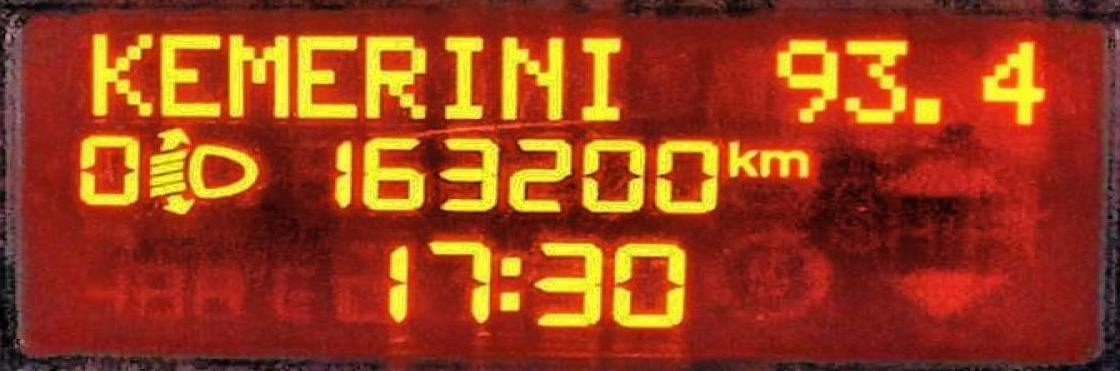-: (906, 93, 946, 129)
0: (608, 235, 691, 332), (575, 131, 646, 216), (71, 130, 145, 211), (650, 133, 721, 216)
1: (370, 236, 411, 325), (316, 130, 356, 211)
2: (501, 133, 570, 216)
3: (530, 234, 600, 328), (843, 32, 904, 126), (435, 132, 500, 216)
4: (969, 35, 1053, 127)
6: (360, 131, 431, 214)
7: (420, 234, 495, 328)
9: (763, 34, 839, 125)
X: (81, 27, 155, 121), (291, 28, 361, 121), (361, 27, 430, 121), (494, 31, 563, 124), (153, 29, 223, 120), (223, 30, 291, 120), (573, 32, 629, 121), (438, 33, 489, 123), (758, 144, 814, 180), (494, 253, 523, 314), (724, 134, 758, 180)
